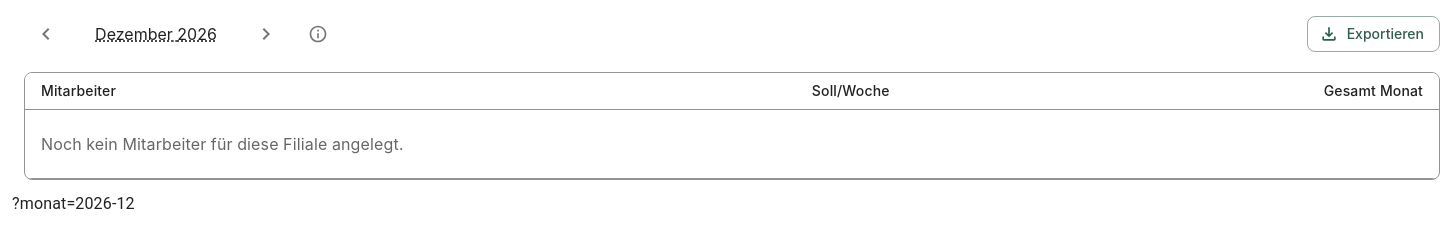
Scenario: MonthOverviewView › month in the URL › writes a month change into ?monat=, including a year change
This screenshot has width=1452, height=230.
Expected: the button "Dezember 2026" is shown, [76,14,236,54]
Click the button named "Nächster Monat" at (266, 34), box [244,12,288,56]
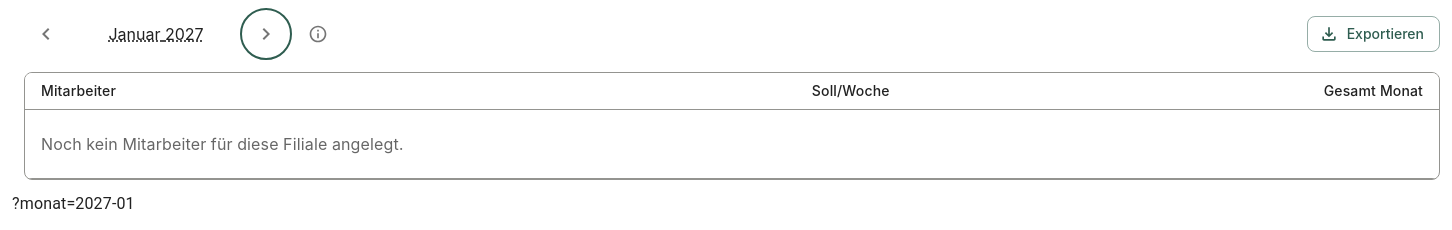
Expected: the button "Januar 2027" is shown, [76,14,236,54]
Expected: the text with test id "location-search" reads "?monat=2027-01", [12,194,135,213]
